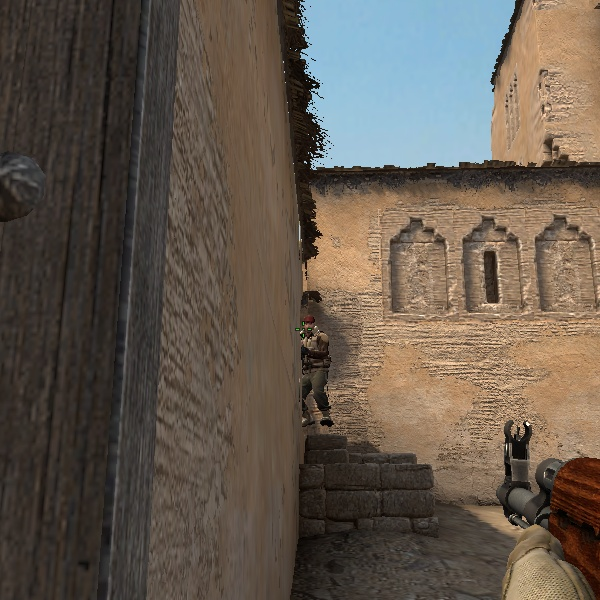t_body: (295, 310, 342, 430)
t_head: (299, 311, 323, 339)
